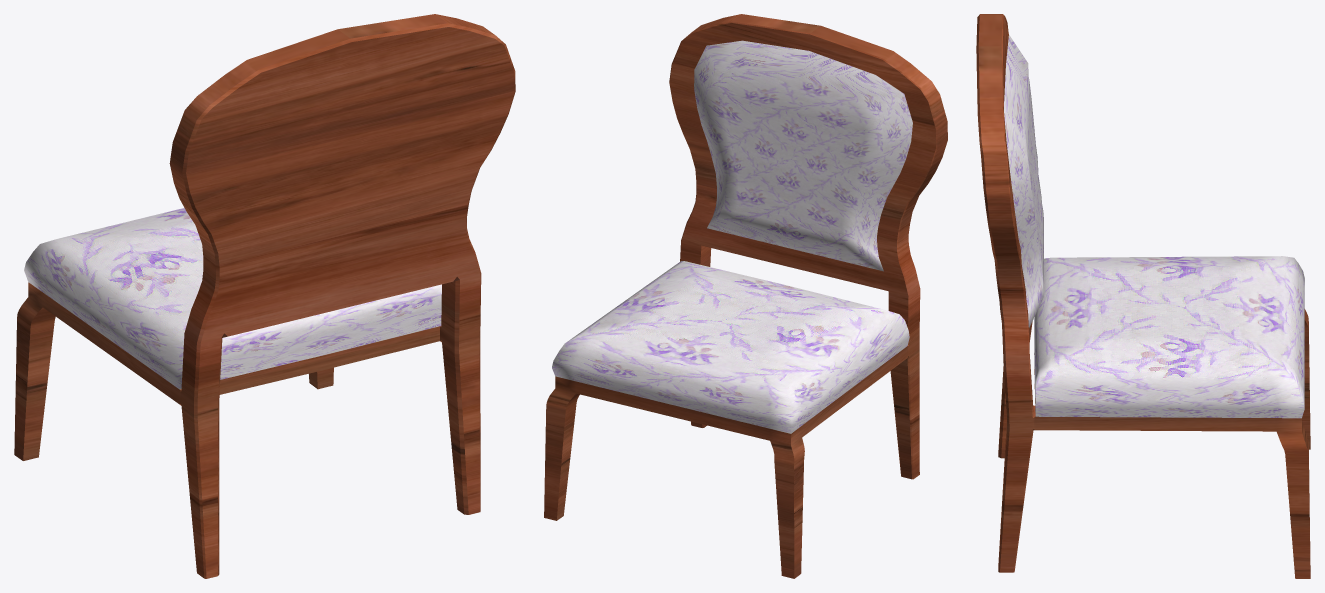
The model's file is chair_D.fbx.
3 renders of one model, left to right at view 1: azimuth 30°, elevation 25°; view 2: azimuth 150°, elevation 25°; view 3: azimuth 270°, elevation 25°, orthographic. The views are drawn at different scales.
Visible parts, largest first — view 1: pCube1; view 2: pCube1; view 3: pCube1.
Boxes of the visible parts, <box> form: pCube1: <box>14,14,515,578</box>; pCube1: <box>544,14,947,578</box>; pCube1: <box>976,14,1310,578</box>.
Bounding box in the file's own units: 1.98 × 2.92 × 1.91.
2 materials, 2 textured.
